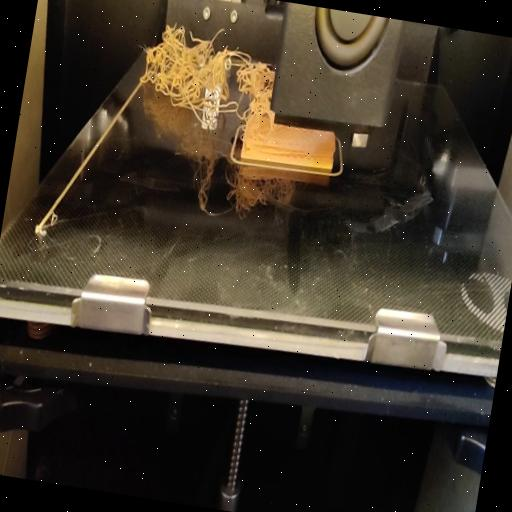spaghetti: (130, 14, 250, 118), (237, 57, 278, 133)
